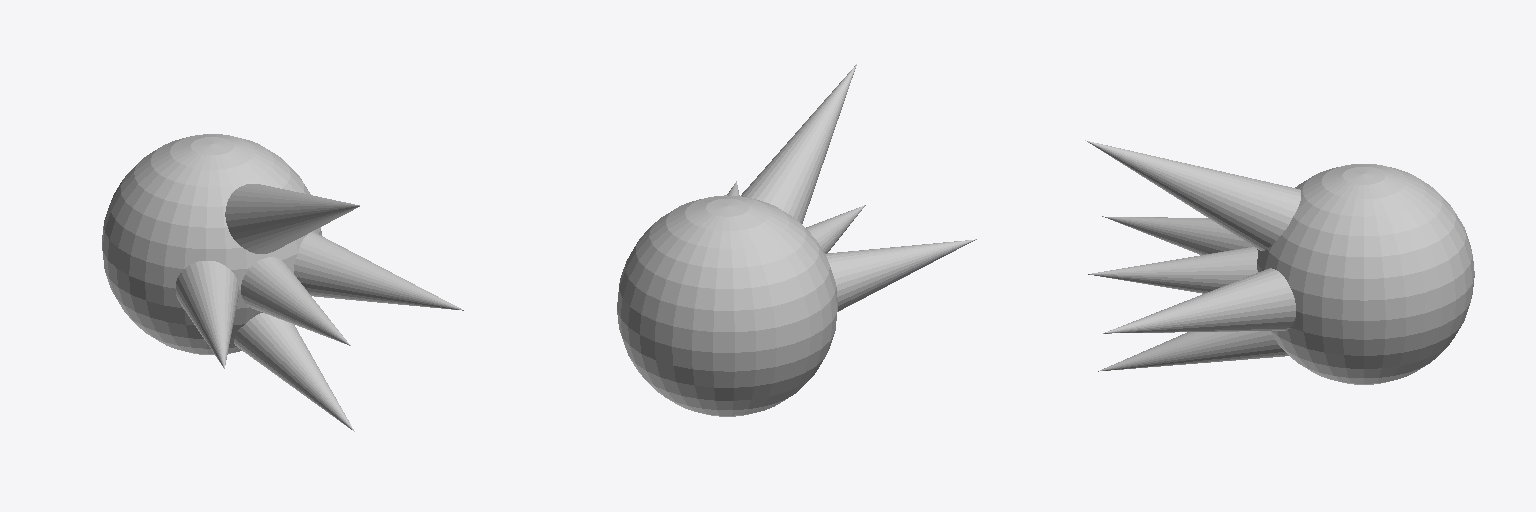
Rendered from fireball.obj.
3 views of the same model, side by side, from view 1: azimuth 30°, elevation 25°; view 2: azimuth 150°, elevation 25°; view 3: azimuth 270°, elevation 25° (orthographic).
Parts seen in each view (by area): view 1: Cone; view 2: Cone; view 3: Cone.
Boxes of the visible parts, <box> form: Cone: <box>102,134,463,431</box>; Cone: <box>617,64,976,416</box>; Cone: <box>1085,140,1474,384</box>.
Bounding box in the file's own units: 2.5 × 2.38 × 3.52.